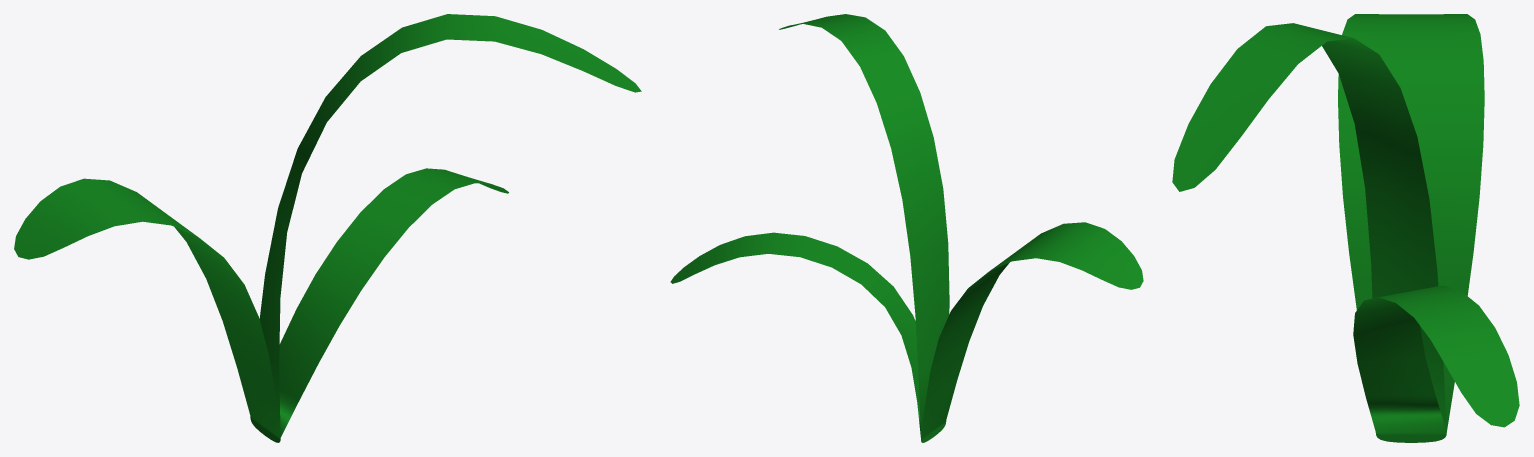
Rendered from SimpleGrasses.fbx.
The picture shows the model from 3 angles, left to right: view 1: azimuth 30°, elevation 25°; view 2: azimuth 150°, elevation 25°; view 3: azimuth 270°, elevation 25°; orthographic projection. The views are drawn at different scales.
Parts seen in each view (by area): view 1: BladeGrass; view 2: BladeGrass; view 3: BladeGrass.
Part boxes in pixels (bbox=[...]): BladeGrass: bbox=[14, 14, 641, 442]; BladeGrass: bbox=[670, 14, 1143, 442]; BladeGrass: bbox=[1172, 14, 1519, 442].
Size of the model in its own units: 1184 by 889 by 577.
